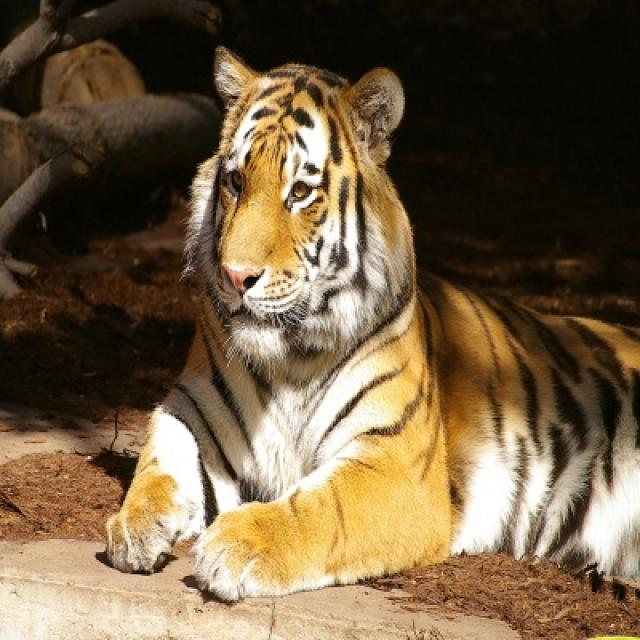Tiger: (106, 48, 638, 598)
